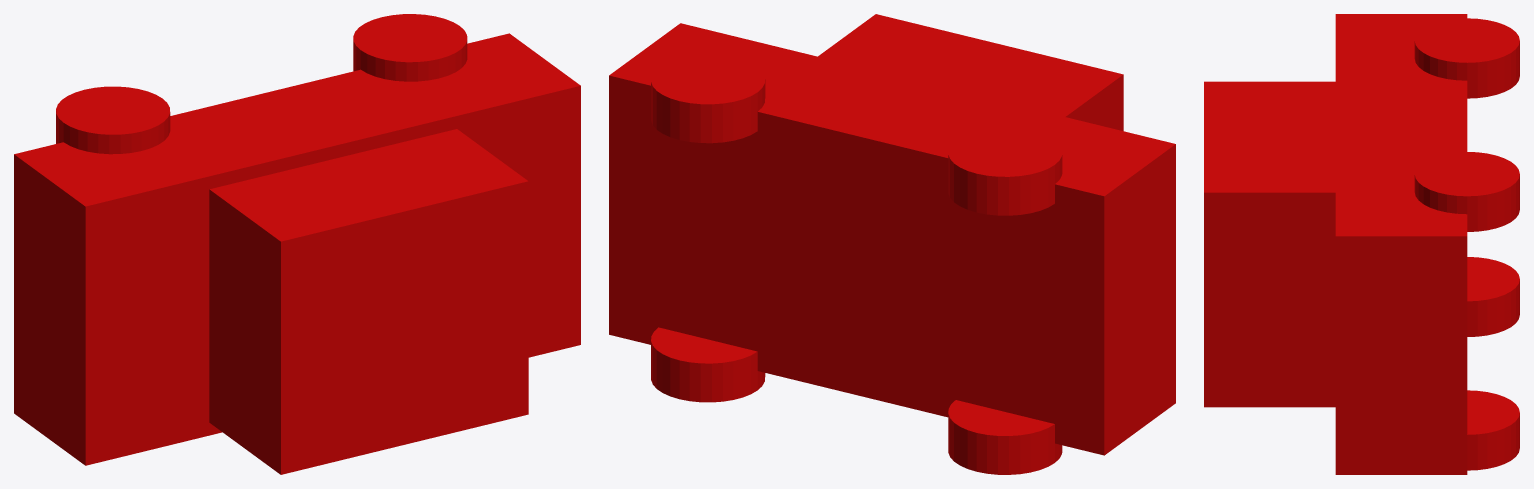
The picture shows the model from 3 angles, left to right: view 1: azimuth 30°, elevation 25°; view 2: azimuth 150°, elevation 25°; view 3: azimuth 270°, elevation 25°; orthographic projection. The views are drawn at different scales.
Parts seen in each view (by area): view 1: world; view 2: world; view 3: world.
Boxes of the visible parts, x1,y1,x2,y2 form: world: (14, 14, 580, 474); world: (609, 14, 1175, 474); world: (1204, 14, 1519, 474).
Size of the model in its own units: 4 by 2.3 by 2.4.
